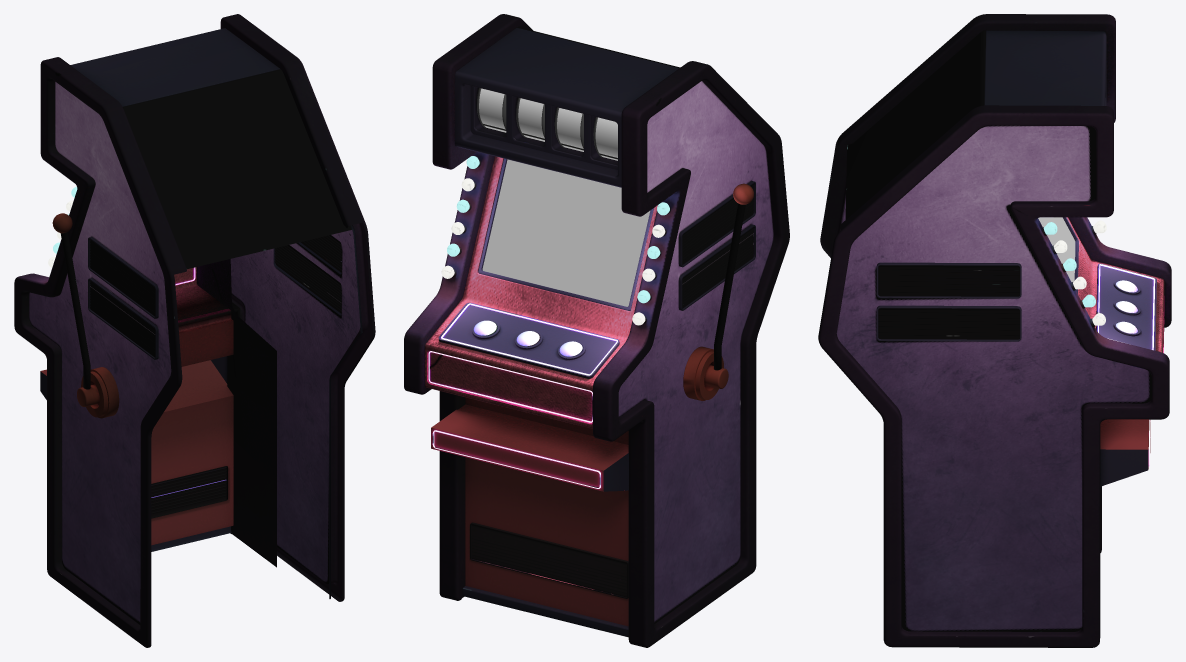
Rendered from slotMachineFinal.glb.
The picture shows the model from 3 angles, left to right: view 1: azimuth 30°, elevation 25°; view 2: azimuth 150°, elevation 25°; view 3: azimuth 270°, elevation 25°; orthographic projection. The views are drawn at different scales.
Parts seen in each view (by area): view 1: Sphere.001; view 2: Sphere.001, Sphere.023, Sphere.006, Sphere.014, Sphere.018, Sphere.015; view 3: Sphere.001, Sphere.023.
Boxes of the visible parts, x1,y1,x2,y2 form: Sphere.001: [14, 14, 375, 647]; Sphere.001: [404, 14, 789, 647]; Sphere.023: [482, 159, 650, 306]; Sphere.006: [477, 88, 506, 132]; Sphere.014: [554, 107, 583, 151]; Sphere.018: [516, 97, 544, 141]; Sphere.015: [593, 117, 617, 160]; Sphere.001: [818, 14, 1171, 647]; Sphere.023: [1038, 217, 1075, 281].
Bounding box in the file's own units: 1.2 × 2.42 × 1.45.
Materials: 4 (1 with a texture image).
